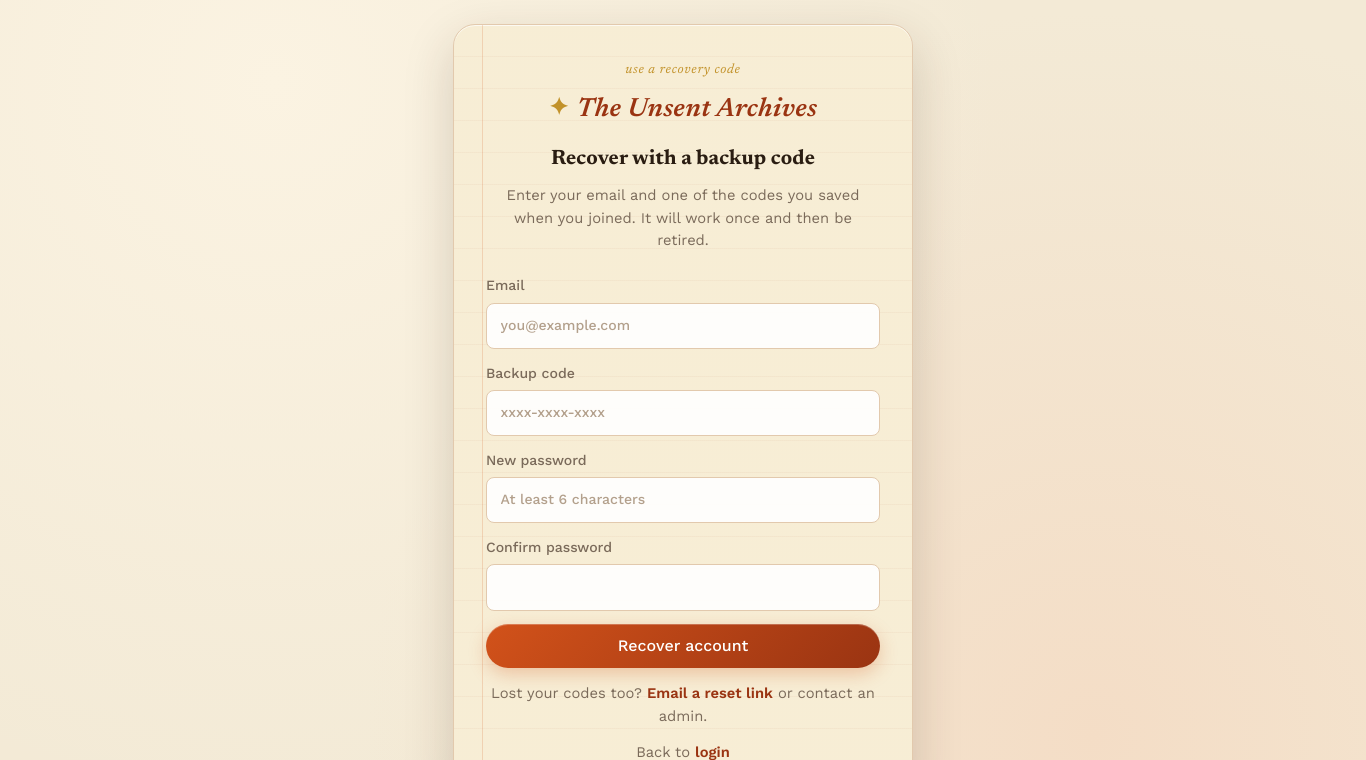
Test: RecoverWithCode page › falls back to a generic error when an HTTP failure carries no message
The image size is (1366, 760).
Step 1. Type "me@example.com" into the field labelled "Email" → (683, 326), box x1=486 y1=303 x2=880 y2=349
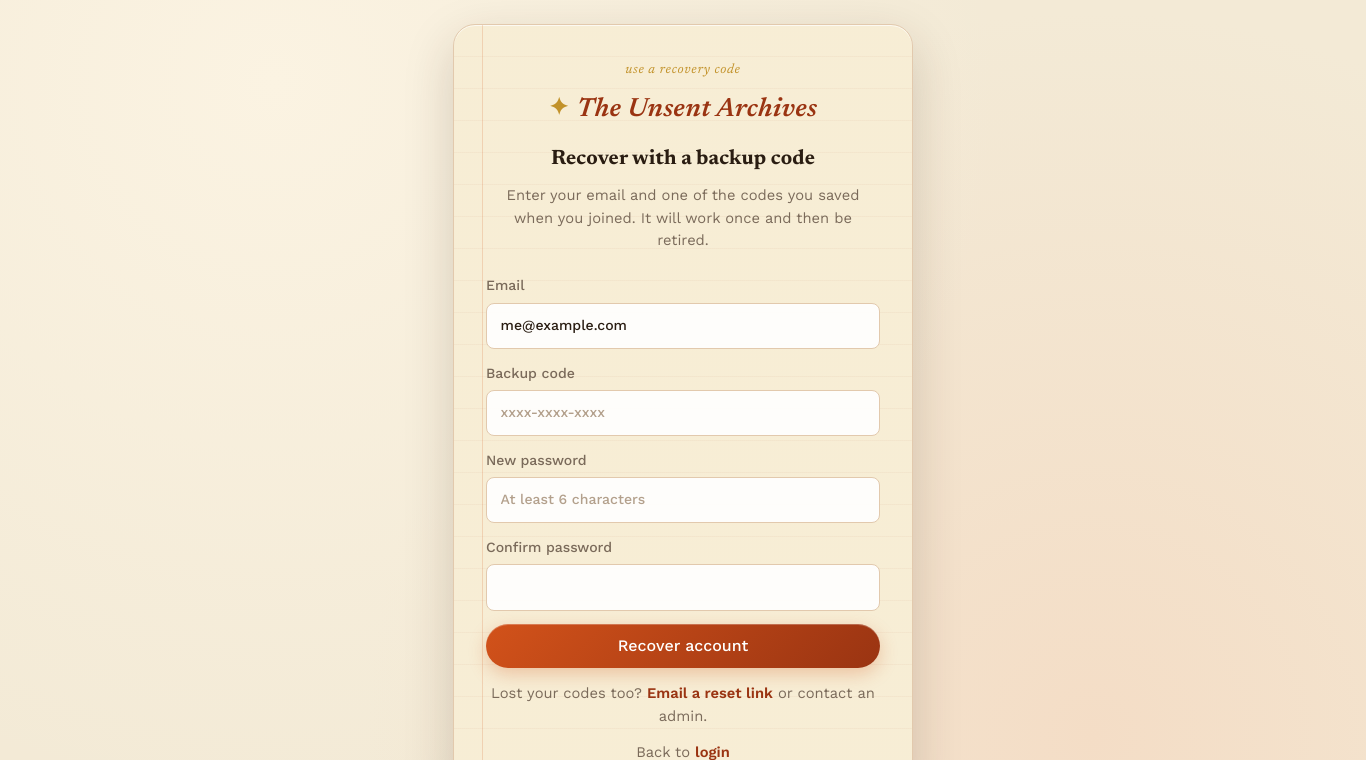
Step 2. Type "aaaa-bbbb-cccc" into the field labelled "Backup code" → (683, 413), box x1=486 y1=390 x2=880 y2=436
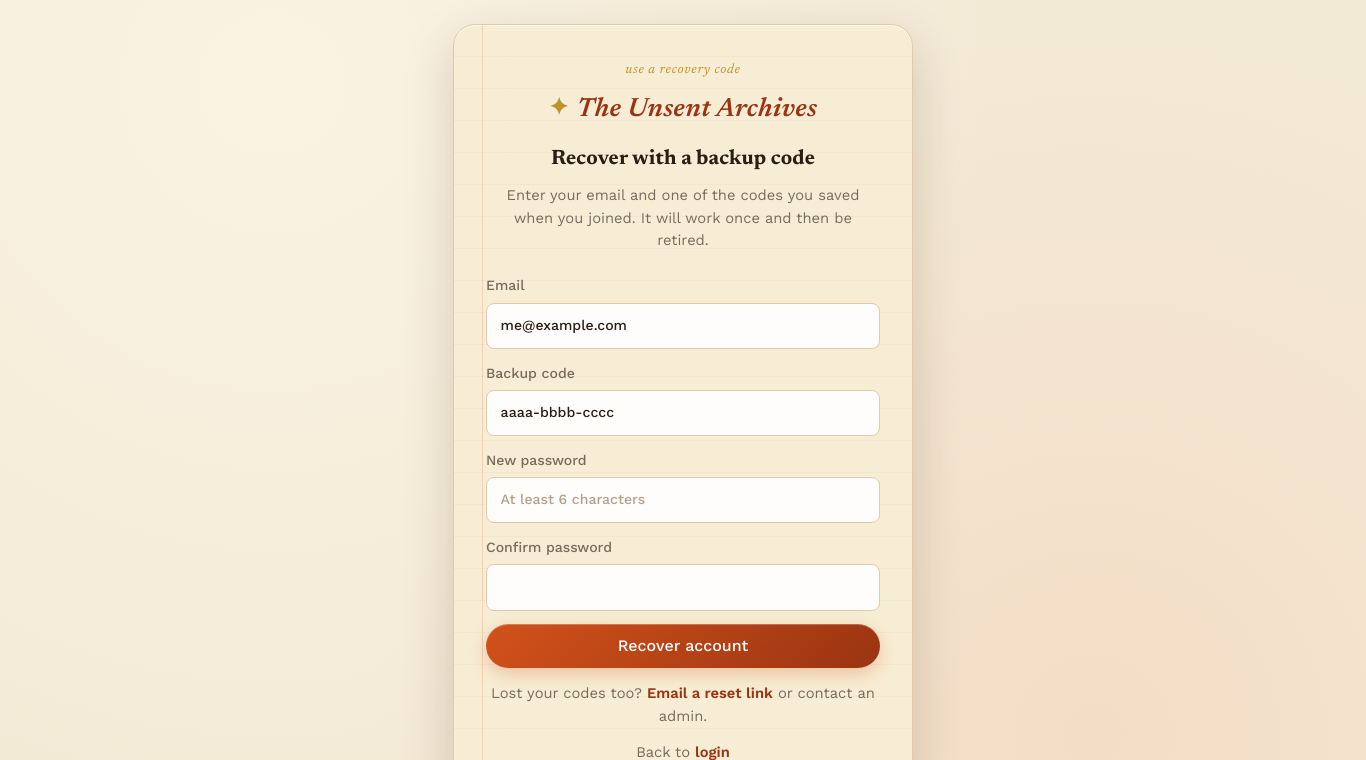
Step 3. Type "hunter22" into the password field labelled "New password" → (683, 500), box x1=486 y1=477 x2=880 y2=523
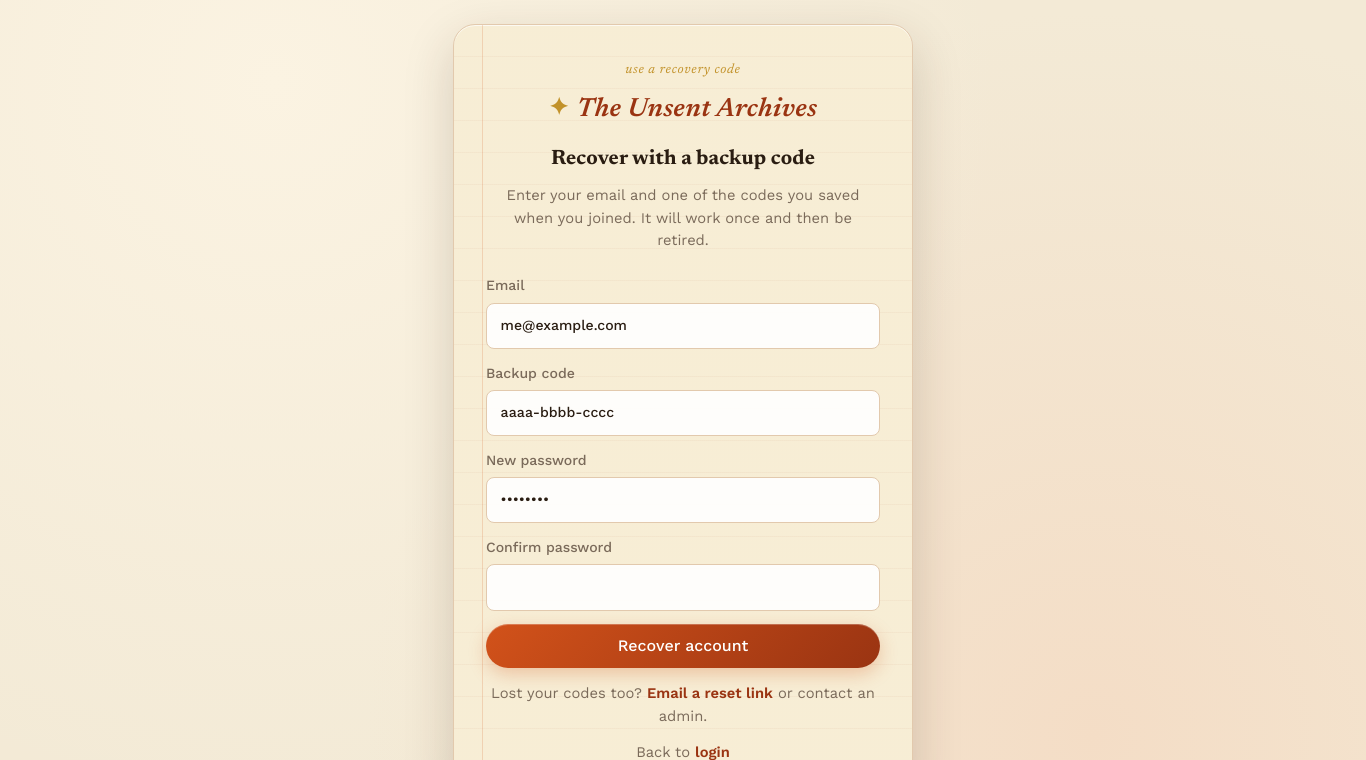
Step 4. Type "hunter22" into the password field labelled "Confirm password" → (683, 587), box x1=486 y1=564 x2=880 y2=610
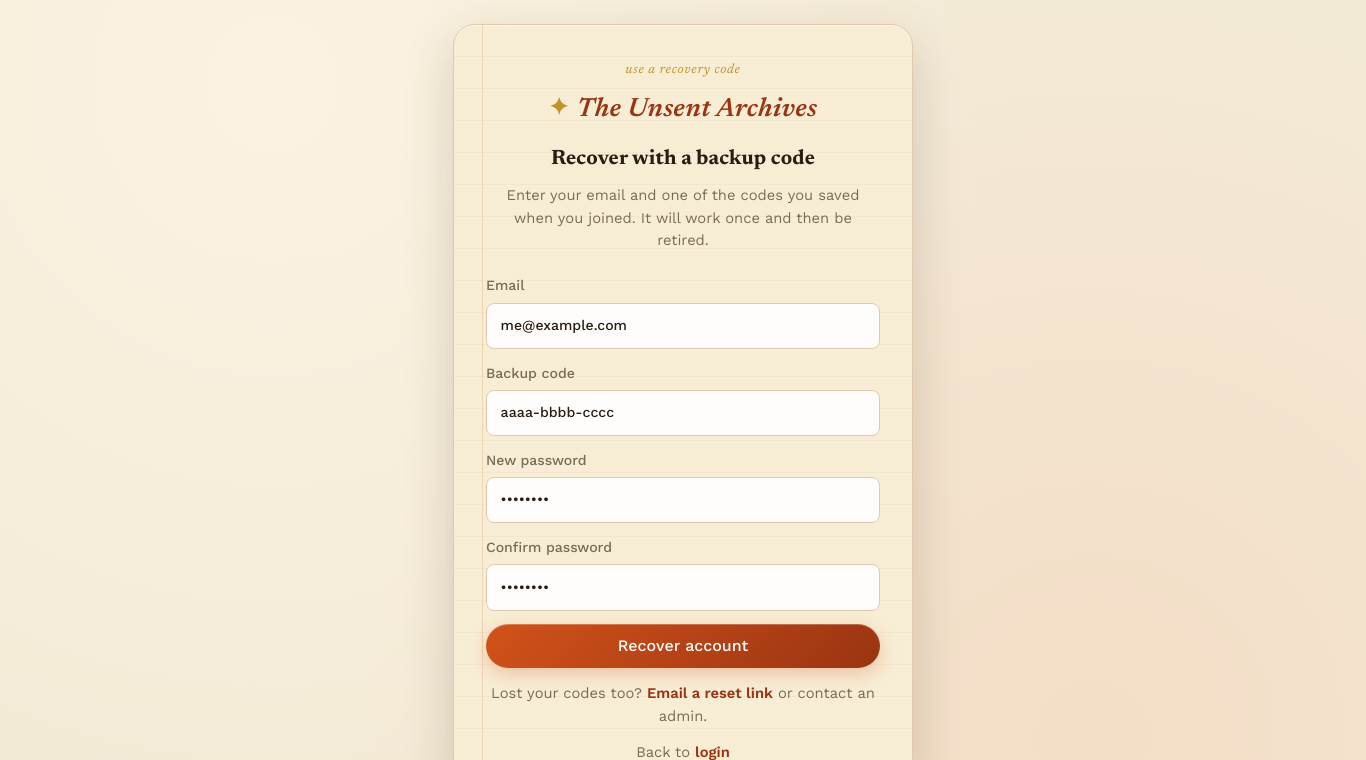
Step 5. Click the button "Recover account" → (683, 646), box x1=486 y1=624 x2=880 y2=668
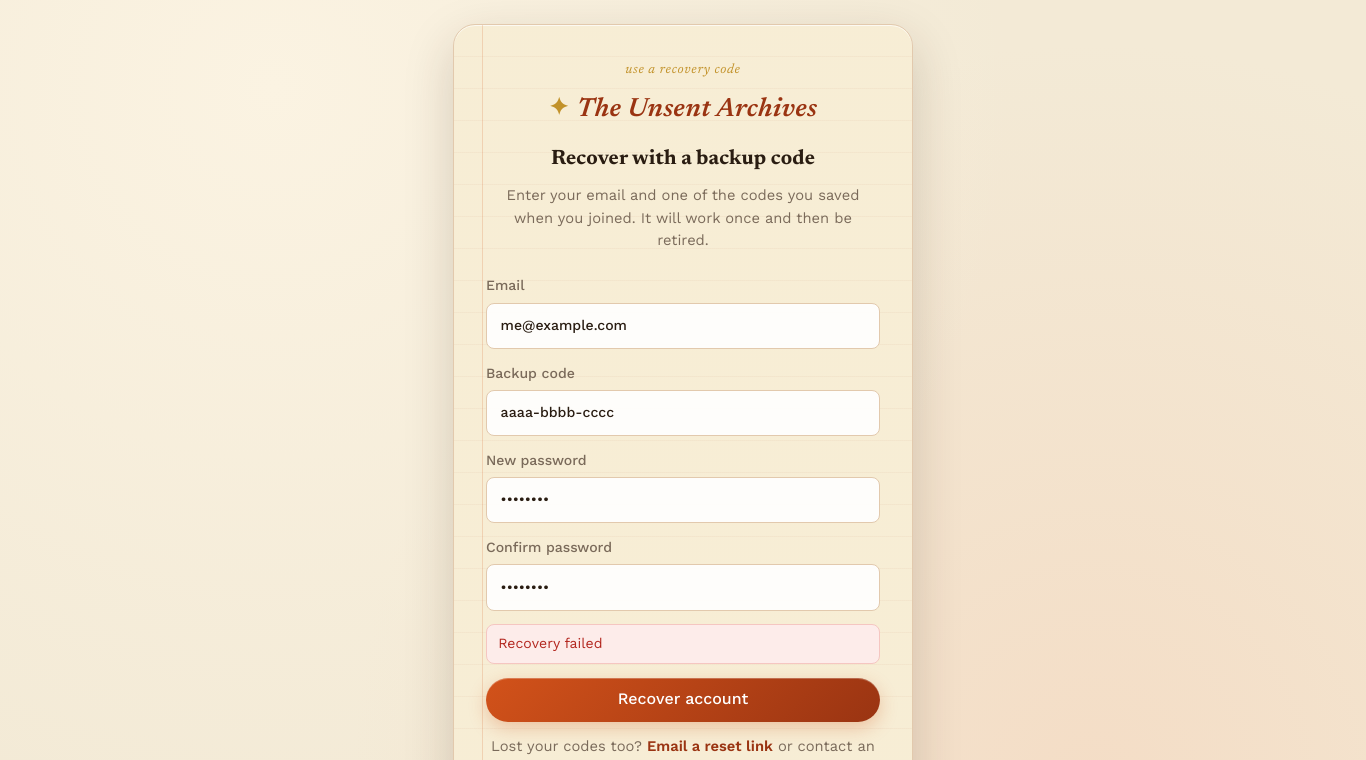
Expected: the text "Recovery failed" is shown, x1=486 y1=624 x2=880 y2=664
